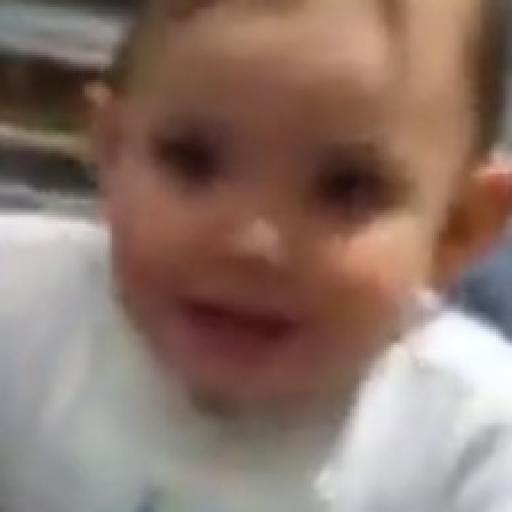Autism: (82, 11, 512, 452)
